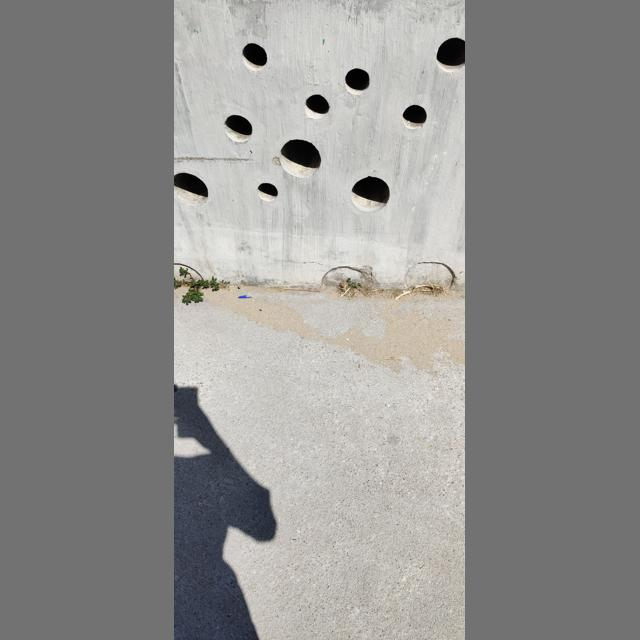litter: (238, 295, 252, 299)
